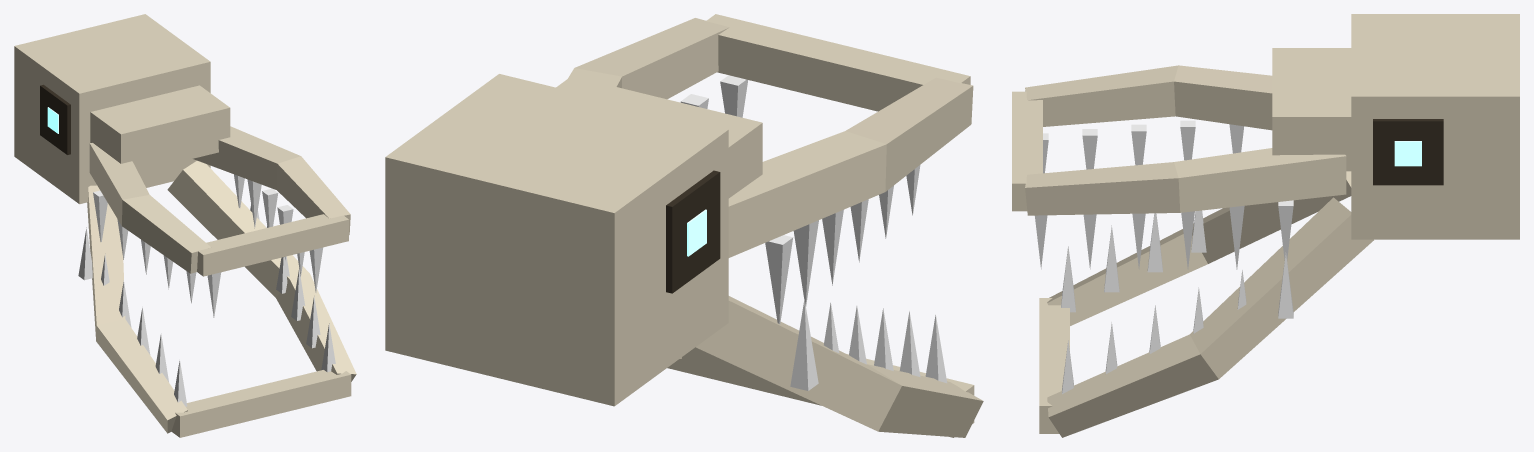
3 views of the same model, side by side, from view 1: azimuth 30°, elevation 25°; view 2: azimuth 150°, elevation 25°; view 3: azimuth 270°, elevation 25° (orthographic). The views are drawn at different scales.
Parts seen in each view (by area): view 1: R043_Main, R043_Accent, R043_Gem; view 2: R043_Main, R043_Accent, R043_Gem, R043_Glow; view 3: R043_Main, R043_Accent, R043_Gem, R043_Glow.
Boxes of the visible parts, <box> form: R043_Main: <box>14,14,356,437</box>; R043_Accent: <box>78,174,335,406</box>; R043_Gem: <box>40,84,70,154</box>; R043_Main: <box>385,14,983,437</box>; R043_Accent: <box>680,75,947,390</box>; R043_Gem: <box>666,170,720,293</box>; R043_Glow: <box>687,209,706,256</box>; R043_Main: <box>1012,14,1519,437</box>; R043_Accent: <box>1035,120,1293,394</box>; R043_Gem: <box>1373,119,1443,185</box>; R043_Glow: <box>1394,141,1421,166</box>.
Size of the model in its own units: 1.17 by 1.32 by 1.87.
